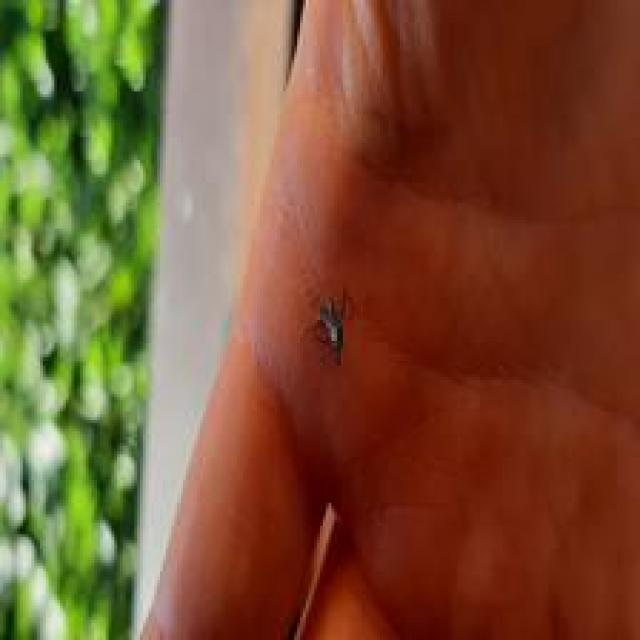Aedes albopictus: (306, 291, 351, 366)
